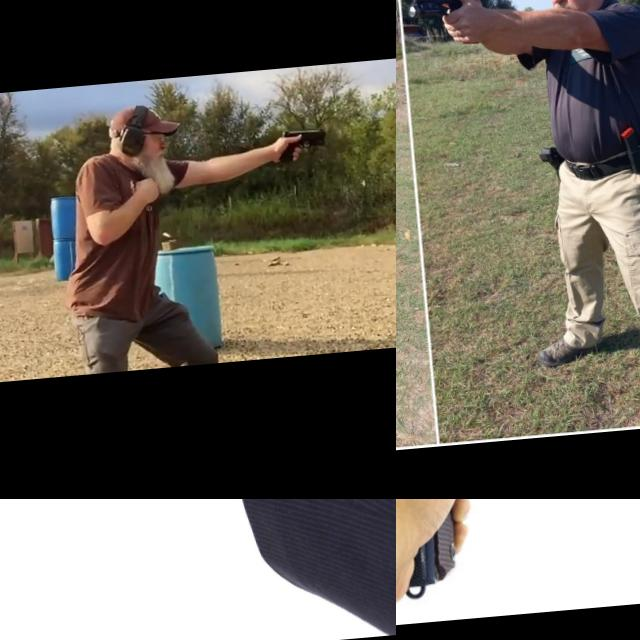handgun: (35, 499, 228, 564), (396, 499, 484, 558), (275, 125, 330, 166), (403, 0, 475, 24), (396, 26, 413, 65)
